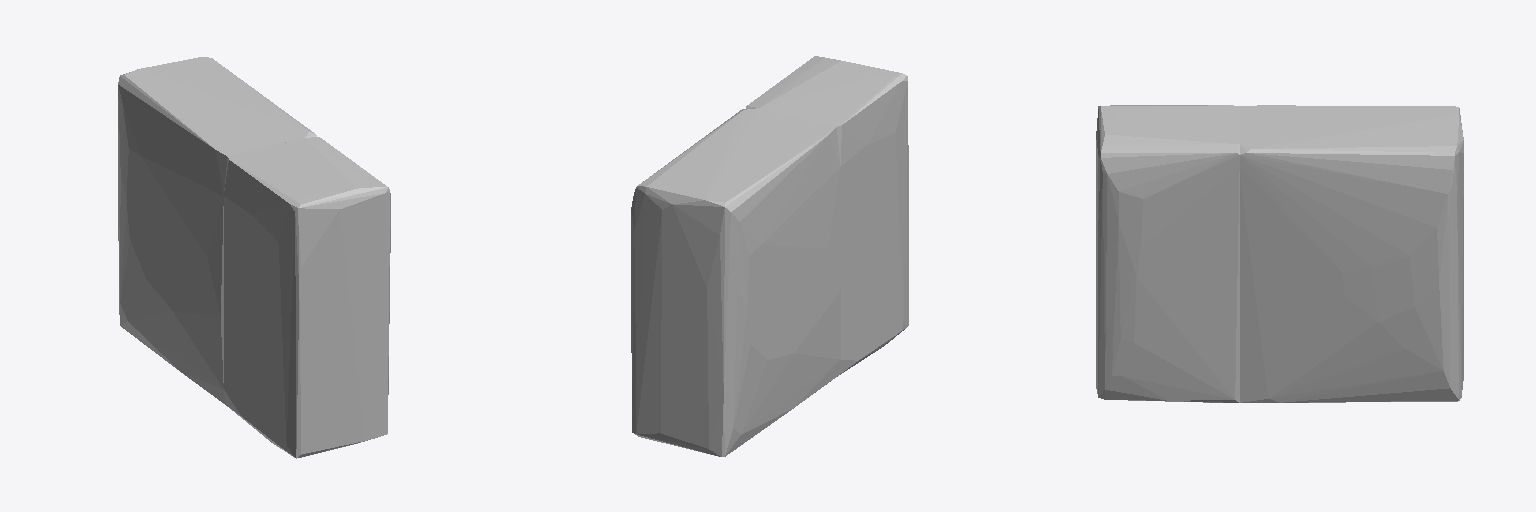
Rendered from crackerbox_vhacd.obj.
The picture shows the model from 3 angles: view 1: azimuth 30°, elevation 25°; view 2: azimuth 150°, elevation 25°; view 3: azimuth 270°, elevation 25°; orthographic projection.
Parts seen in each view (by area): view 1: convex_1, convex_0; view 2: convex_0, convex_1; view 3: convex_0, convex_1.
Part boxes in pixels (left/top/right/bottom): convex_1: left=224, top=137, right=390, bottom=458; convex_0: left=118, top=57, right=316, bottom=404; convex_0: left=631, top=108, right=840, bottom=456; convex_1: left=746, top=56, right=908, bottom=376; convex_0: left=1240, top=105, right=1463, bottom=402; convex_1: left=1096, top=105, right=1239, bottom=402.
Bounding box in the file's own units: 0.0733 × 0.165 × 0.2148.